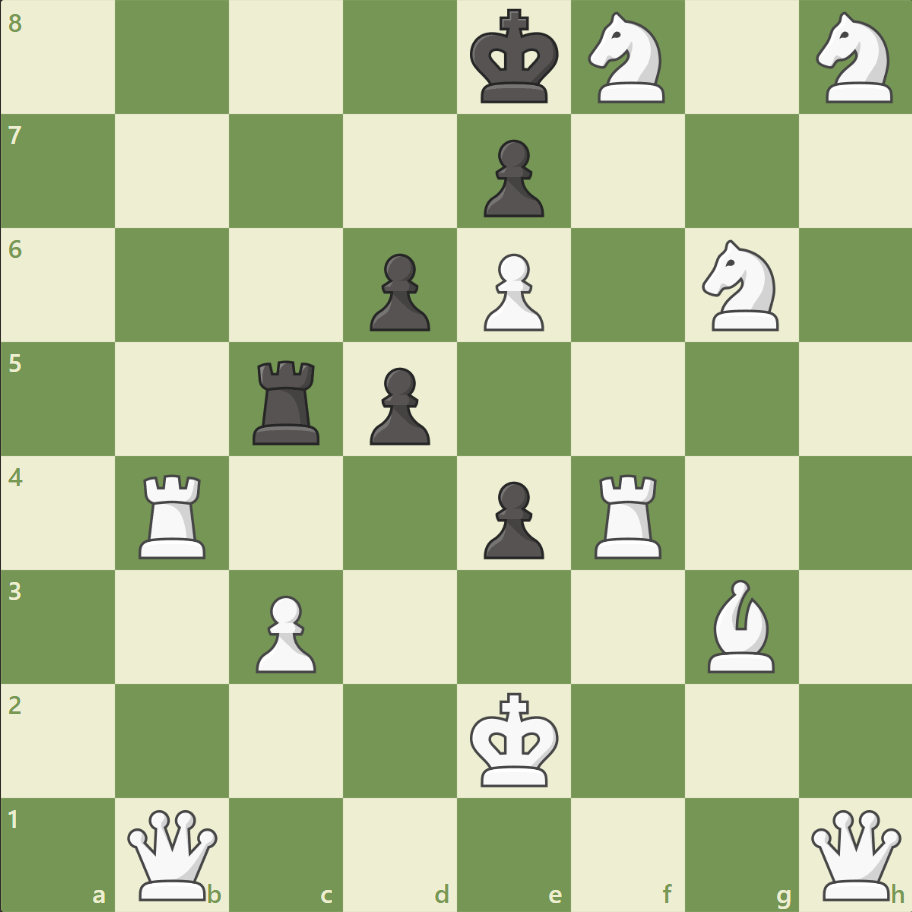B: (698, 574, 782, 676)
K: (465, 685, 565, 793)
N: (579, 7, 676, 110), (806, 7, 903, 110), (692, 234, 789, 337)
P: (474, 246, 549, 337), (247, 586, 322, 677)
Q: (124, 804, 223, 903), (805, 804, 904, 903)
R: (587, 466, 670, 563), (133, 466, 215, 563)
k: (465, 4, 565, 112)
p: (474, 132, 549, 223), (474, 473, 549, 564), (361, 246, 435, 337), (361, 359, 435, 450)
r: (246, 352, 329, 449)
